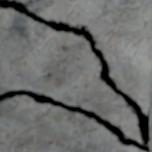brick: (17, 0, 151, 151), (0, 9, 140, 141), (0, 96, 142, 151)
crack: (0, 0, 150, 151)
